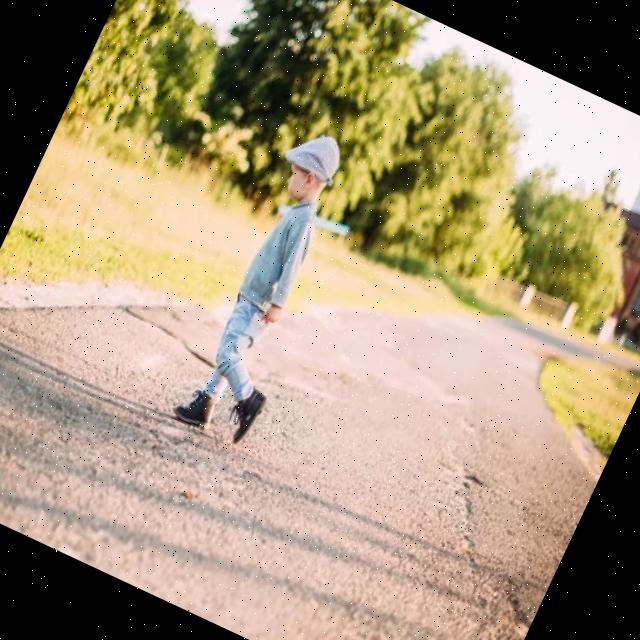Person: (164, 120, 379, 451)
